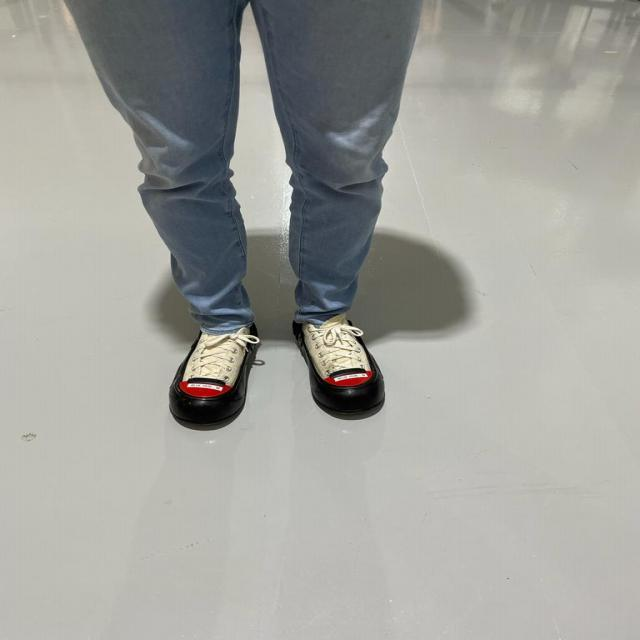shoes: (162, 316, 266, 438), (290, 310, 388, 421)
